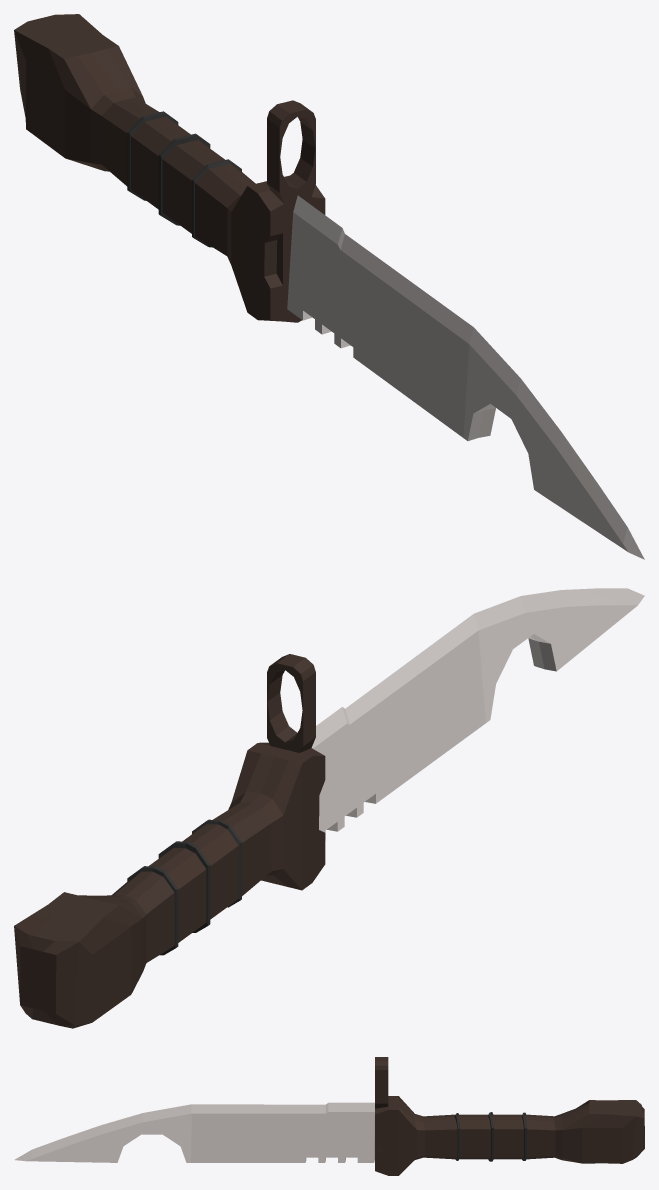
Rendered from Knife.fbx.
3 views of the same model, one above another, from view 1: azimuth 30°, elevation 25°; view 2: azimuth 150°, elevation 25°; view 3: azimuth 270°, elevation 25° (orthographic). The views are drawn at different scales.
Parts seen in each view (by area): view 1: Plane; view 2: Plane; view 3: Plane.
Part boxes in pixels (x1,y1,x2,y2): Plane: (14,14,644,559); Plane: (14,588,644,1028); Plane: (14,1057,644,1175).
Bounding box in the file's own units: 4.8 × 14.64 × 76.28.
